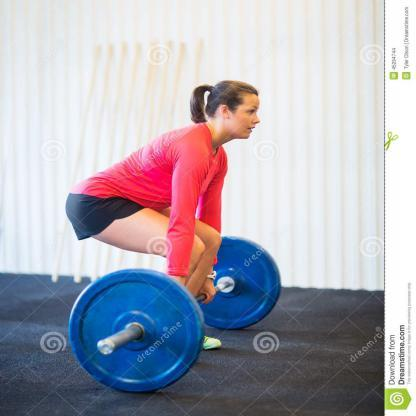Barbell: (95, 340, 117, 358)
